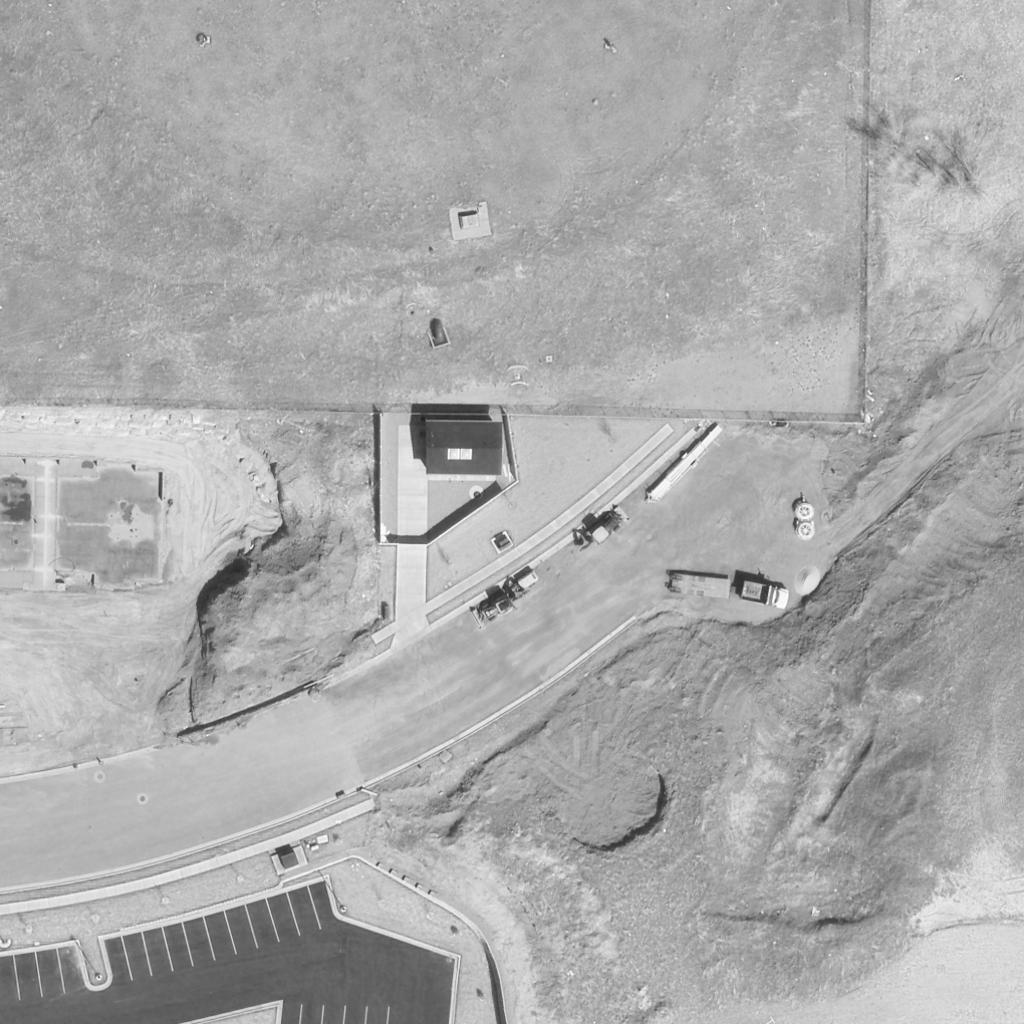vehicle: (470, 592, 516, 630), (591, 506, 631, 548), (740, 580, 790, 612)
